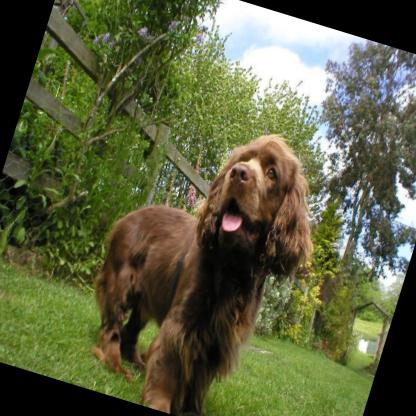Sussex_spaniel: (62, 91, 343, 416)
